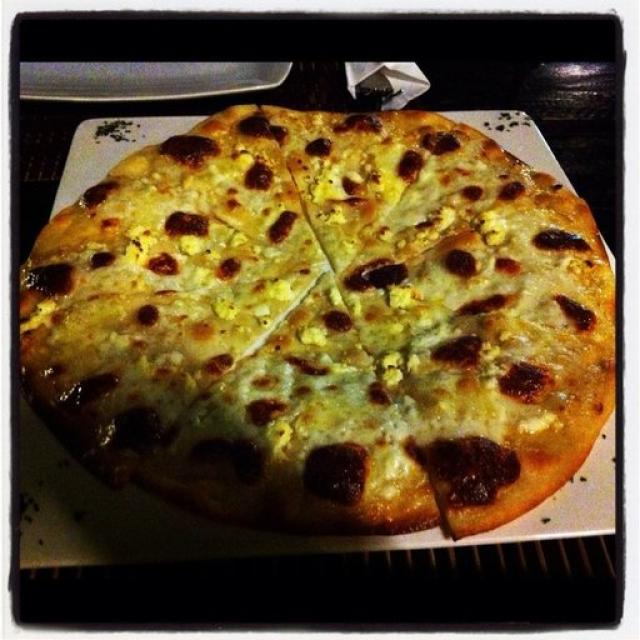Pizza: (21, 105, 616, 542)
